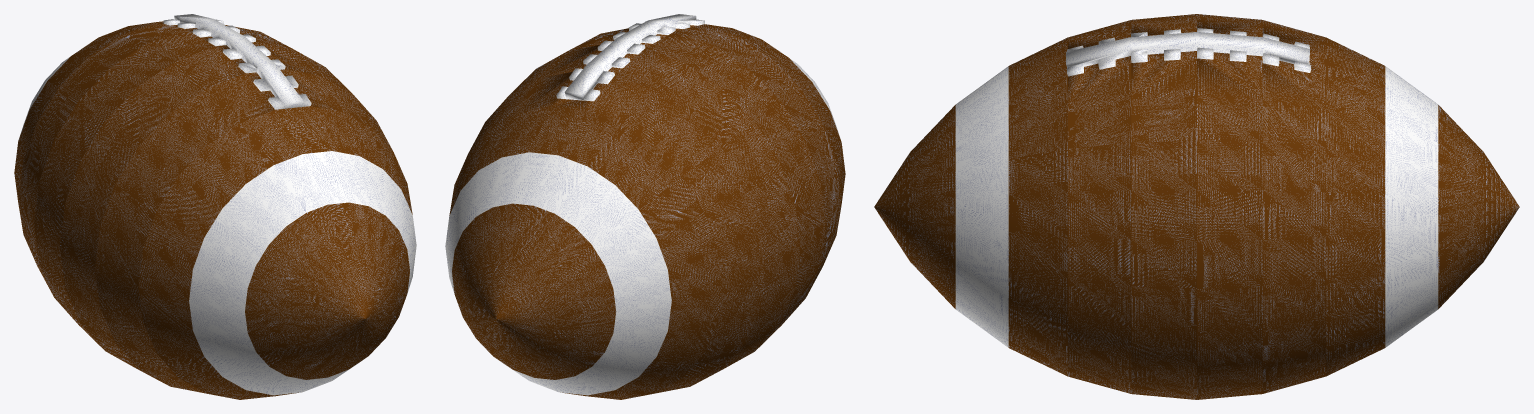
File: football.dae
3 renders of one model, left to right at view 1: azimuth 30°, elevation 25°; view 2: azimuth 150°, elevation 25°; view 3: azimuth 270°, elevation 25°, orthographic. The views are drawn at different scales.
Parts seen in each view (by area): view 1: SketchUp (×4); view 2: SketchUp (×4); view 3: SketchUp (×6).
Part boxes in pixels (bbox=[...]): SketchUp (×4): bbox=[14, 14, 416, 399]; SketchUp (×4): bbox=[445, 14, 845, 399]; SketchUp (×6): bbox=[874, 14, 1519, 399].
Size of the model in its own units: 6 by 10 by 6.1.
